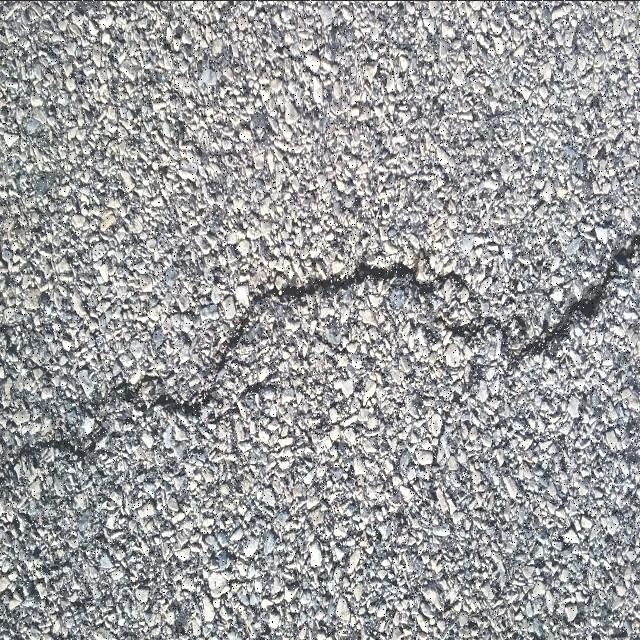Crack: (0, 224, 640, 498)
